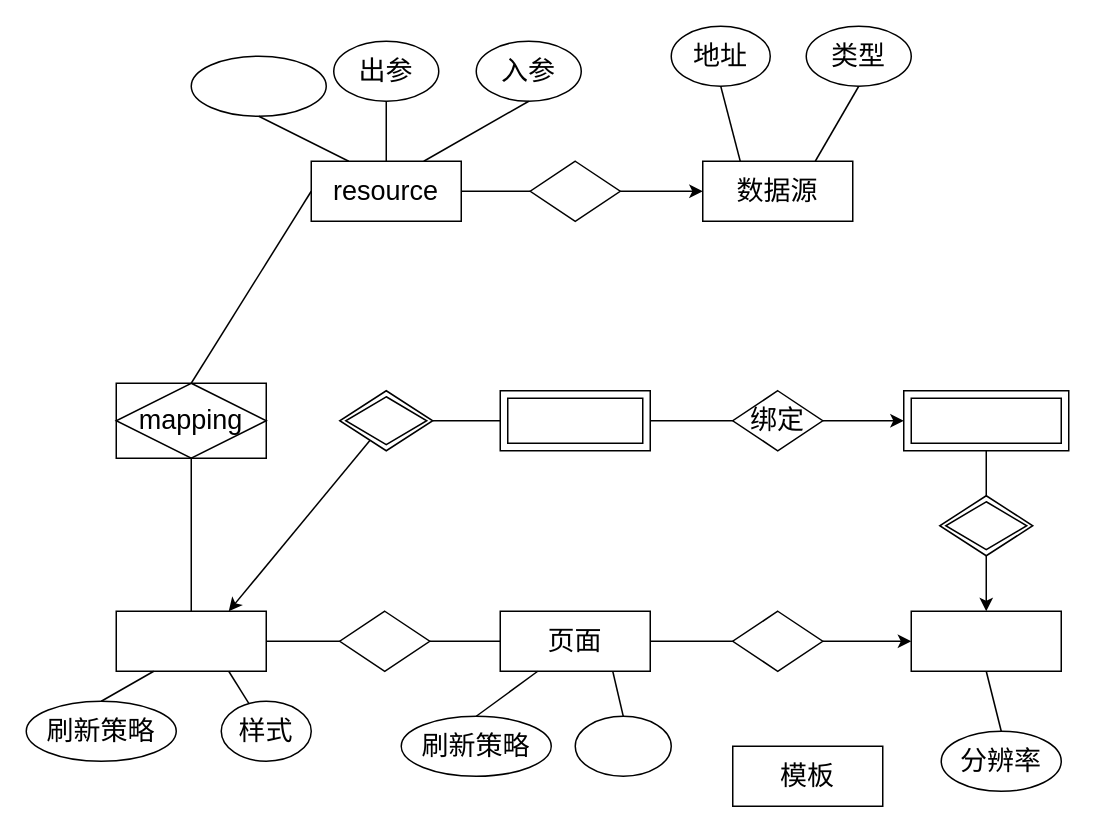
Image size: 1095x833. Some labels were removed from this diagram. Here are the shapes that lost their labels. From the top down, the centre of each, then its label:
At [258,85]: "元数据".
At [574,420]: "事件".
At [985,420]: "事件handler".
At [190,640]: "组件".
At [777,640]: "属于".
At [985,640]: "应用".
At [622,745]: "布局".
